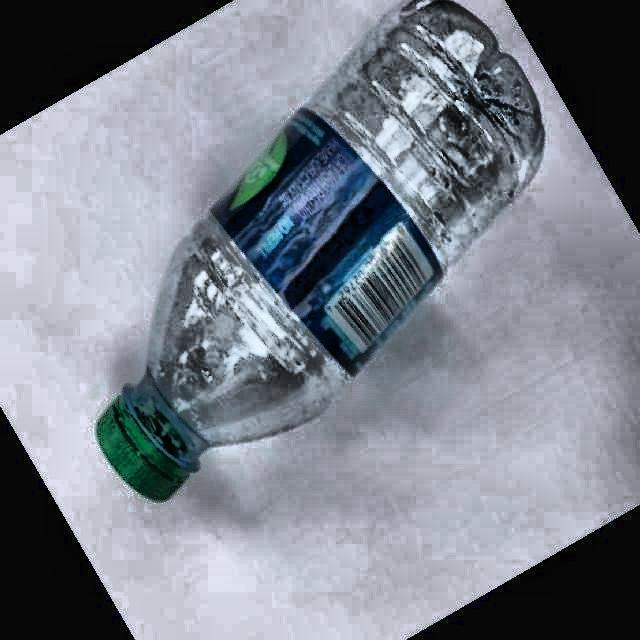plastic: (98, 0, 544, 499)
